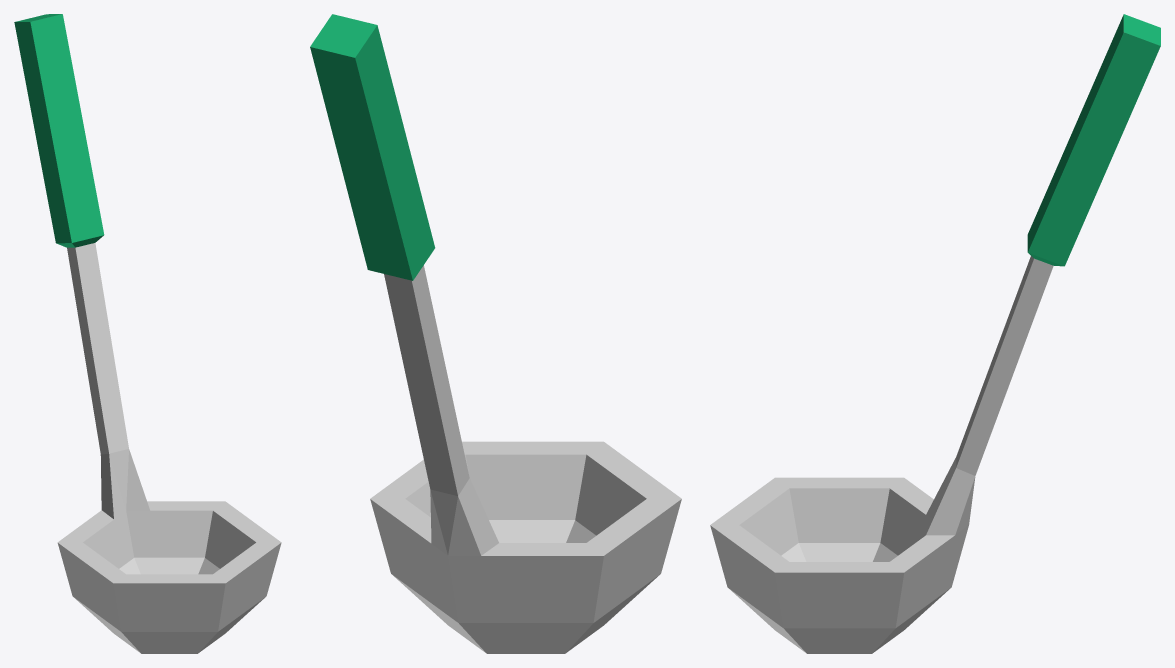
The model's file is ladle4_PLY.fbx.
3 renders of one model, left to right at view 1: azimuth 30°, elevation 25°; view 2: azimuth 150°, elevation 25°; view 3: azimuth 270°, elevation 25°, orthographic. The views are drawn at different scales.
Parts seen in each view (by area): view 1: ladle4_PLY; view 2: ladle4_PLY; view 3: ladle4_PLY.
Boxes of the visible parts, x1,y1,x2,y2 form: ladle4_PLY: (14,14,281,653); ladle4_PLY: (310,14,681,653); ladle4_PLY: (710,14,1160,653).
Size of the model in its own units: 0.433 by 1.33 by 0.8703.
